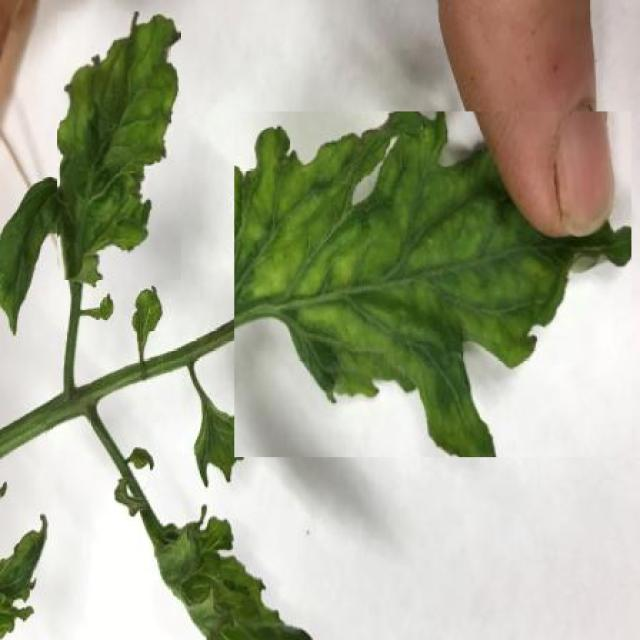Mosaic Virus: (234, 112, 632, 458), (57, 11, 180, 280)
